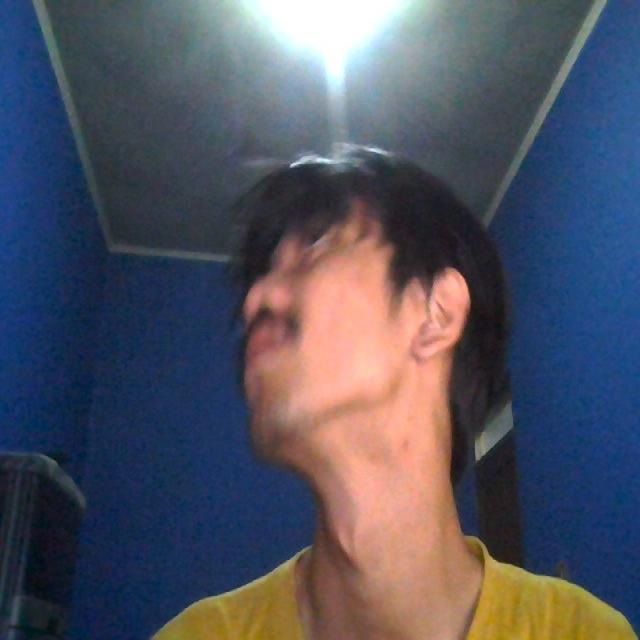Melihat kekanan: (232, 120, 518, 512)
